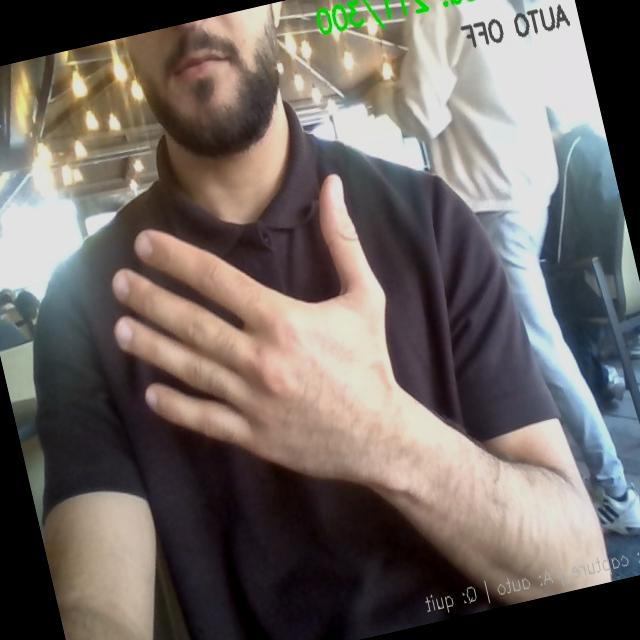Hand: (113, 176, 405, 484)
